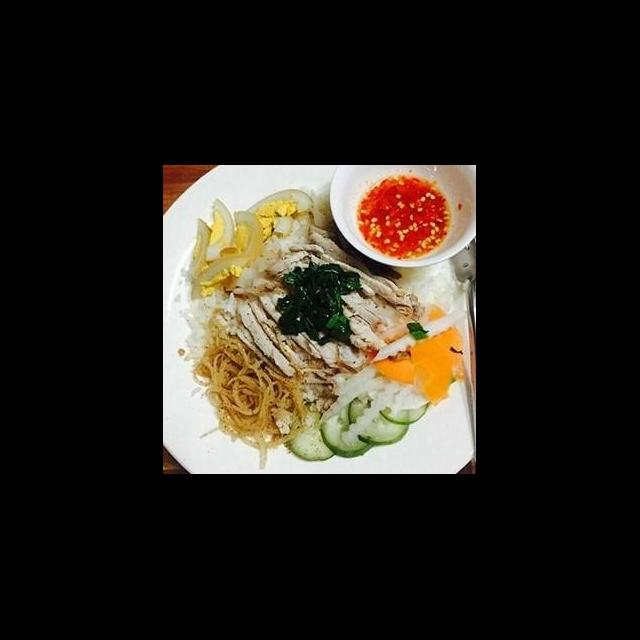bi: (190, 330, 310, 452)
com: (178, 284, 242, 366)
com suon bi trung: (172, 191, 466, 458)
dua chua: (318, 361, 418, 446)
suon: (269, 226, 426, 354), (236, 286, 344, 378)
trung: (185, 182, 318, 302)
